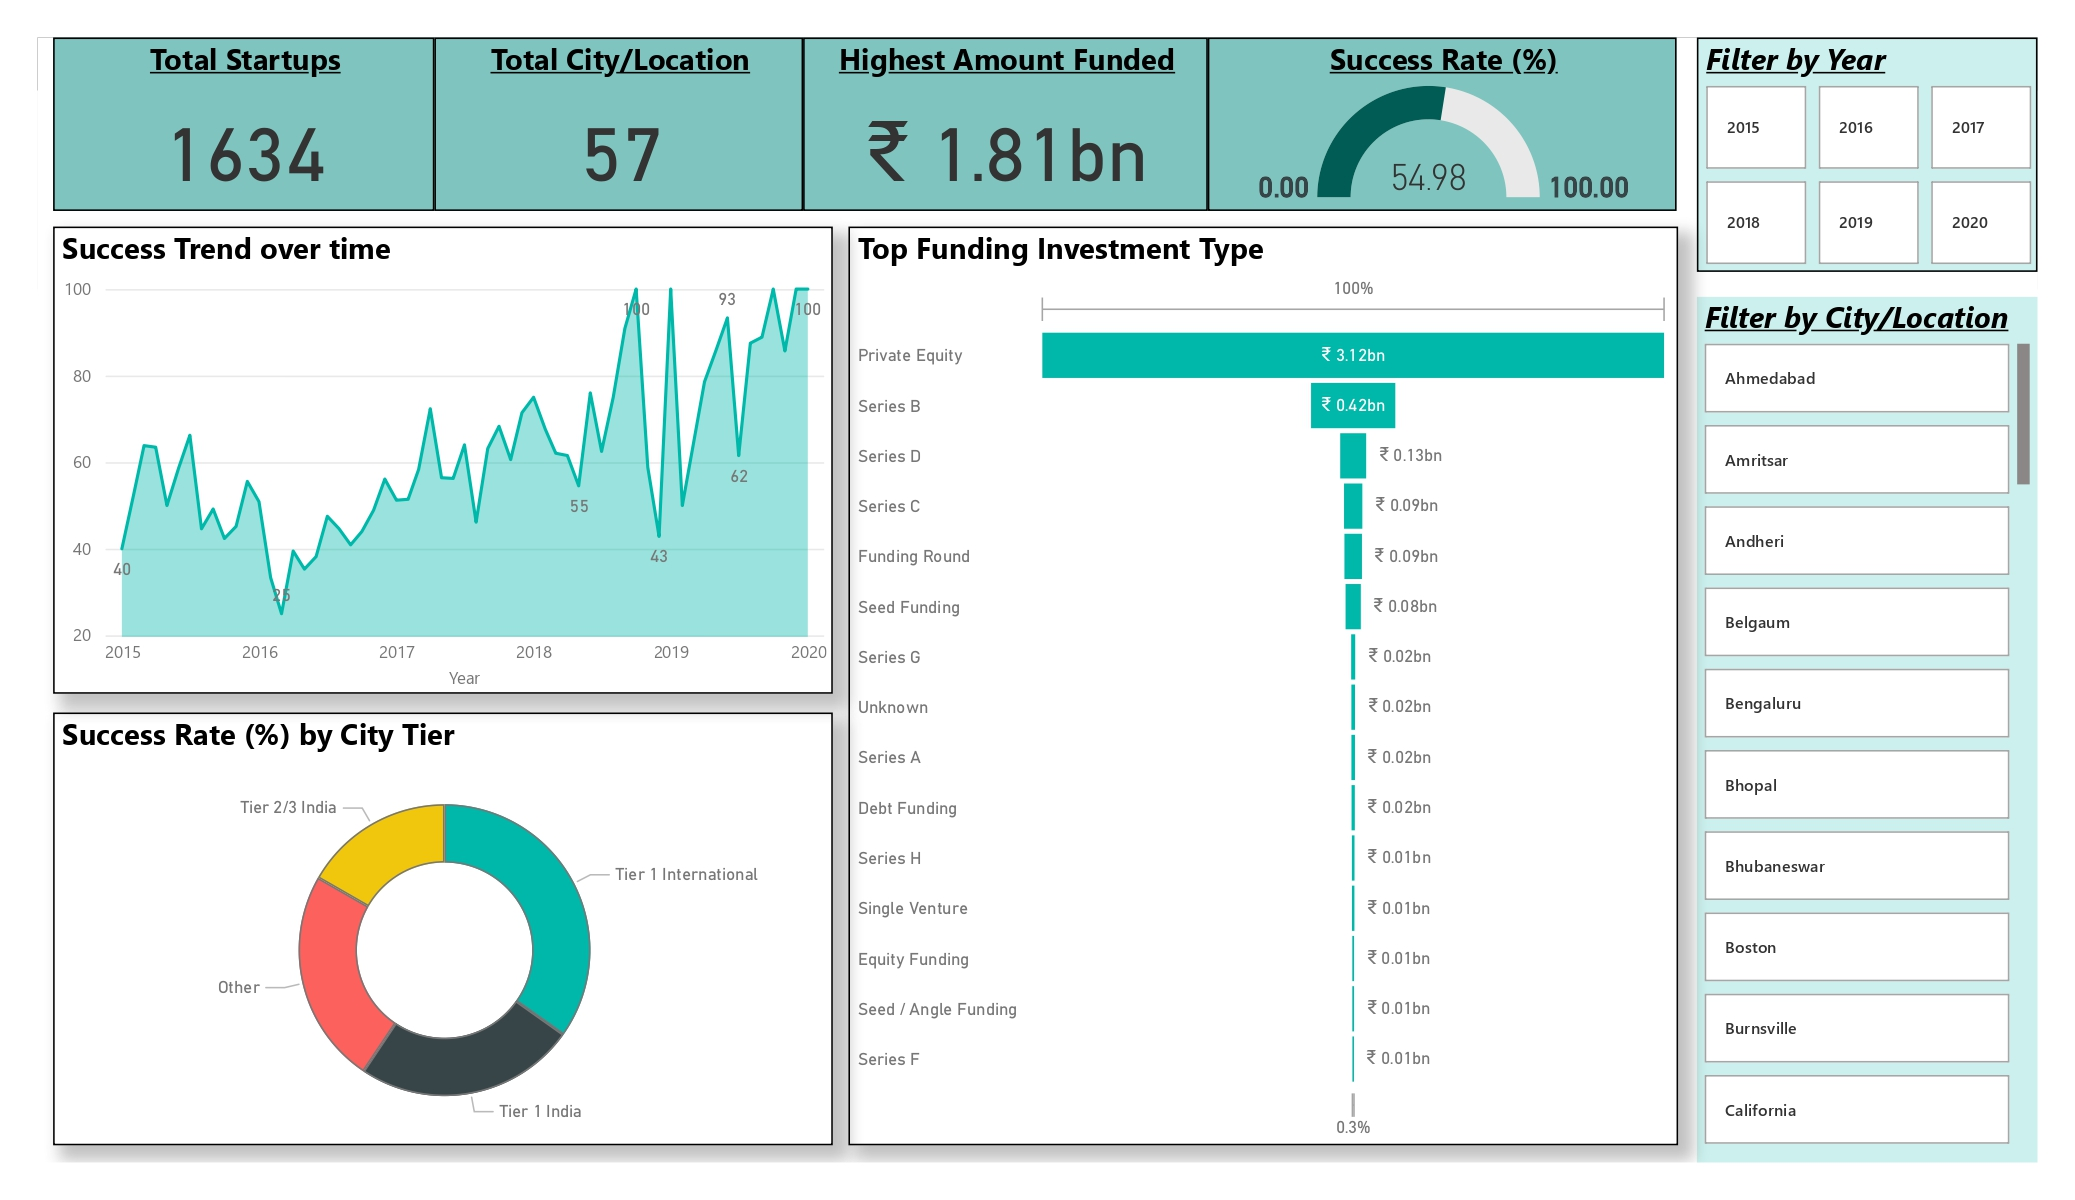

This screenshot's page, from the dashboard's own definition file:
{"tool":"powerbi","page":{"name":"Page 4","canvas":[1280,720],"ordinal":4},"visuals":[{"type":"lineChart","title":"Success Trend over time","fields":{"Y":["startup.Success Rate (%)"],"Category":["startup.Date.Variation.Date Hierarchy.Year","startup.Date.Variation.Date Hierarchy.Quarter","startup.Date.Variation.Date Hierarchy.Month"]},"box":[9.6,120.8,499.5,299.1],"z":0},{"type":"donutChart","title":"Success Rate (%) by City Tier","fields":{"Category":["startup_ml.City Tier","startup_ml.Success"],"Y":["startup.Success Rate (%)"]},"box":[9.6,432.2,499.5,277.2],"z":1000},{"type":"advancedSlicerVisual","title":"Filter by Year","fields":{"Values":["startup.Date.Variation.Date Hierarchy.Year"]},"box":[1062.1,0,218.2,149.6],"z":2000},{"type":"advancedSlicerVisual","title":"Filter by City/Location","fields":{"Values":["startup.City Location"]},"box":[1062.1,166,218.2,554.4],"z":3000},{"type":"funnel","title":"Top Funding Investment Type","fields":{"Y":["Sum(startup.Amount in INR(K))"],"Category":["startup.Investment Type"]},"box":[518.7,120.8,531,588.7],"z":4000},{"type":"card","title":"Total Startups","fields":{"Values":["startup.Startup Count"]},"box":[9.6,0,244.3,111.1],"z":5000},{"type":"gauge","fields":{"Y":["startup.Success Rate (%)"]},"box":[748.6,0,300,111.4],"z":6000},{"type":"card","title":"Total City/Location","fields":{"Values":["Count(startup.City Location)"]},"box":[254.3,0,235.7,111.4],"z":7000},{"type":"card","title":"Highest Amount Funded","fields":{"Values":["startup.Highest Funding Amount"]},"box":[490,0,258.6,111.4],"z":8000}]}

Visuals, with their boxes on the page's 1280x720 design canvas (x1, y1, x2, y2). These are canvas units, not pixel positions in the 2075x1200 screenshot, which may show the page scaled, cropped or inside an application window:
"Success Trend over time" lineChart: BBox(10, 121, 509, 420)
"Success Rate (%) by City Tier" donutChart: BBox(10, 432, 509, 709)
"Filter by Year" advancedSlicerVisual: BBox(1062, 0, 1280, 150)
"Filter by City/Location" advancedSlicerVisual: BBox(1062, 166, 1280, 720)
"Top Funding Investment Type" funnel: BBox(519, 121, 1050, 710)
"Total Startups" card: BBox(10, 0, 254, 111)
gauge - startup.Success Rate (%): BBox(749, 0, 1049, 111)
"Total City/Location" card: BBox(254, 0, 490, 111)
"Highest Amount Funded" card: BBox(490, 0, 749, 111)
